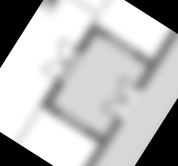double door: (40, 38, 81, 84), (99, 74, 139, 120)
wall: (134, 30, 178, 95), (75, 115, 127, 166), (74, 20, 102, 54), (40, 77, 66, 112), (36, 93, 64, 119), (87, 20, 111, 41), (133, 50, 154, 71)
window: (53, 106, 93, 137), (102, 30, 141, 59)
